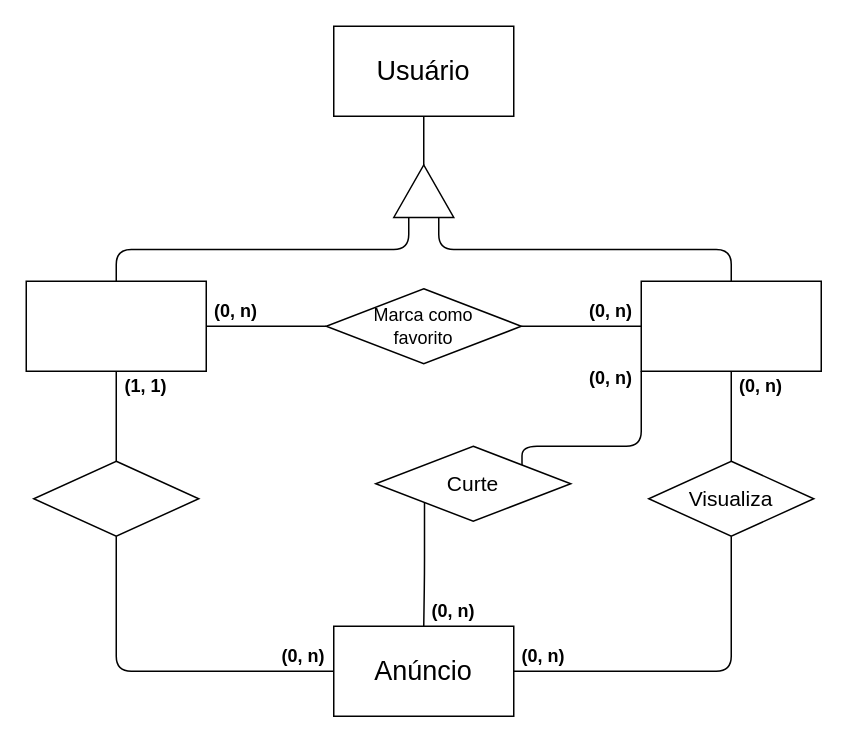
Some shapes in this 848 by 743 pixel diagram are drawn without their labels. The centre of each missing label's shape, as x and y in pixels:
"Comprador" goes at point (730, 325).
"Produtor" goes at point (115, 325).
"Publica" goes at point (115, 498).
